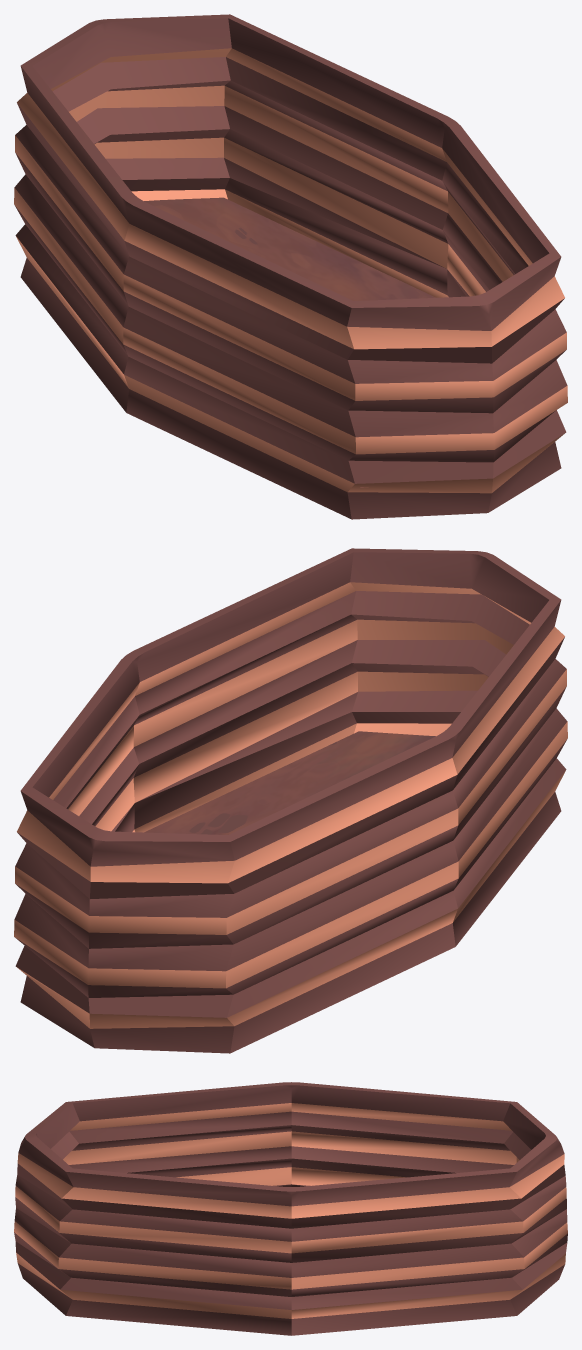
Rendered from VasoRetangular2.fbx.
3 renders of one model, top to bottom at view 1: azimuth 30°, elevation 25°; view 2: azimuth 150°, elevation 25°; view 3: azimuth 270°, elevation 25°, orthographic. The views are drawn at different scales.
Parts seen in each view (by area): view 1: Cylinder.044; view 2: Cylinder.044; view 3: Cylinder.044.
Boxes of the visible parts, x1=… form: Cylinder.044: x1=14, y1=14, x2=567, y2=519; Cylinder.044: x1=14, y1=548, x2=567, y2=1053; Cylinder.044: x1=14, y1=1082, x2=567, y2=1335.
Size of the model in its own units: 0.8301 by 0.5077 by 1.74.
